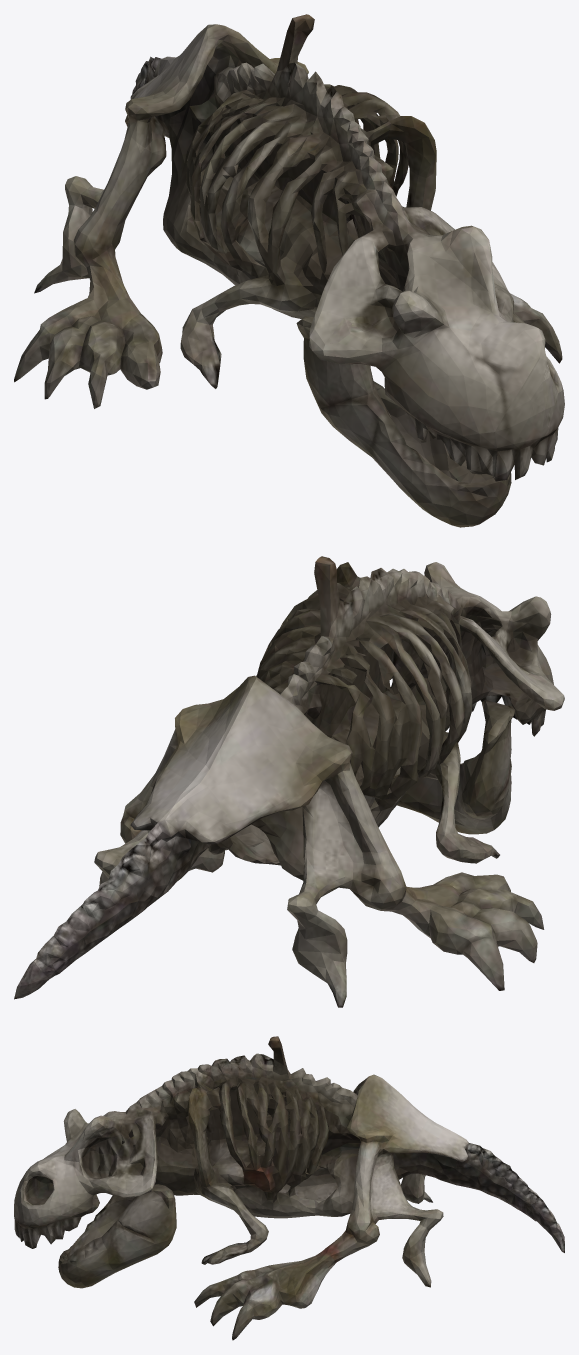
The model's file is trexskel.glb.
The picture shows the model from 3 angles, top to bottom: view 1: azimuth 30°, elevation 25°; view 2: azimuth 150°, elevation 25°; view 3: azimuth 270°, elevation 25°; orthographic projection. The views are drawn at different scales.
Visible parts, largest first — view 1: world; view 2: world; view 3: world.
Boxes of the visible parts, box(x1,y1,x2,y2) form: world: box(14, 14, 564, 527); world: box(14, 556, 564, 1007); world: box(14, 1036, 564, 1340).
Bounding box in the file's own units: 0.6061 × 0.4927 × 0.999.
Materials: 1 (1 with a texture image).
